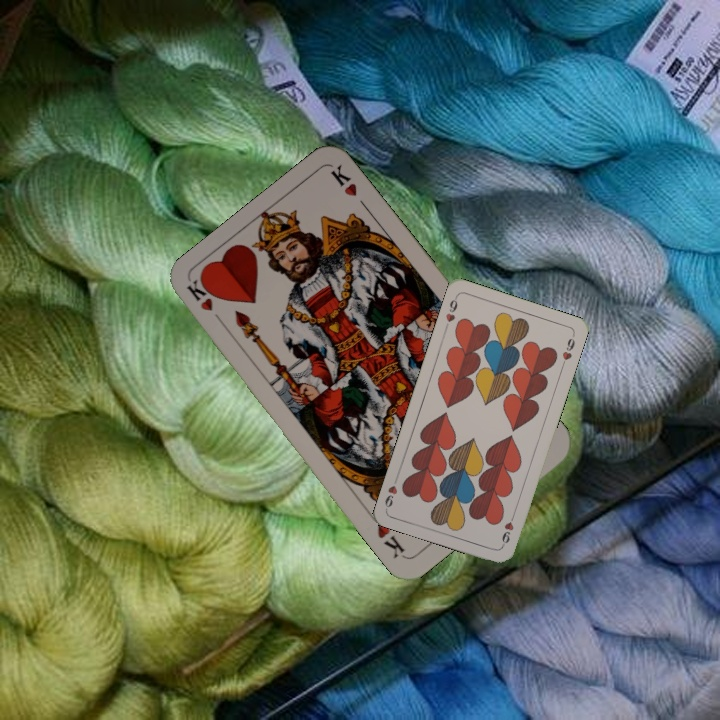H9: (441, 292, 460, 332), (498, 510, 517, 549)
HK: (183, 276, 229, 329)
